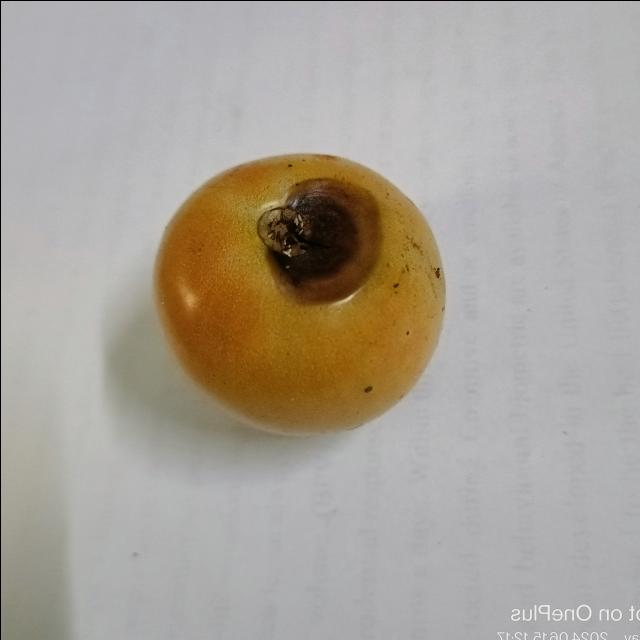Anthrocnose: (256, 174, 388, 298)
